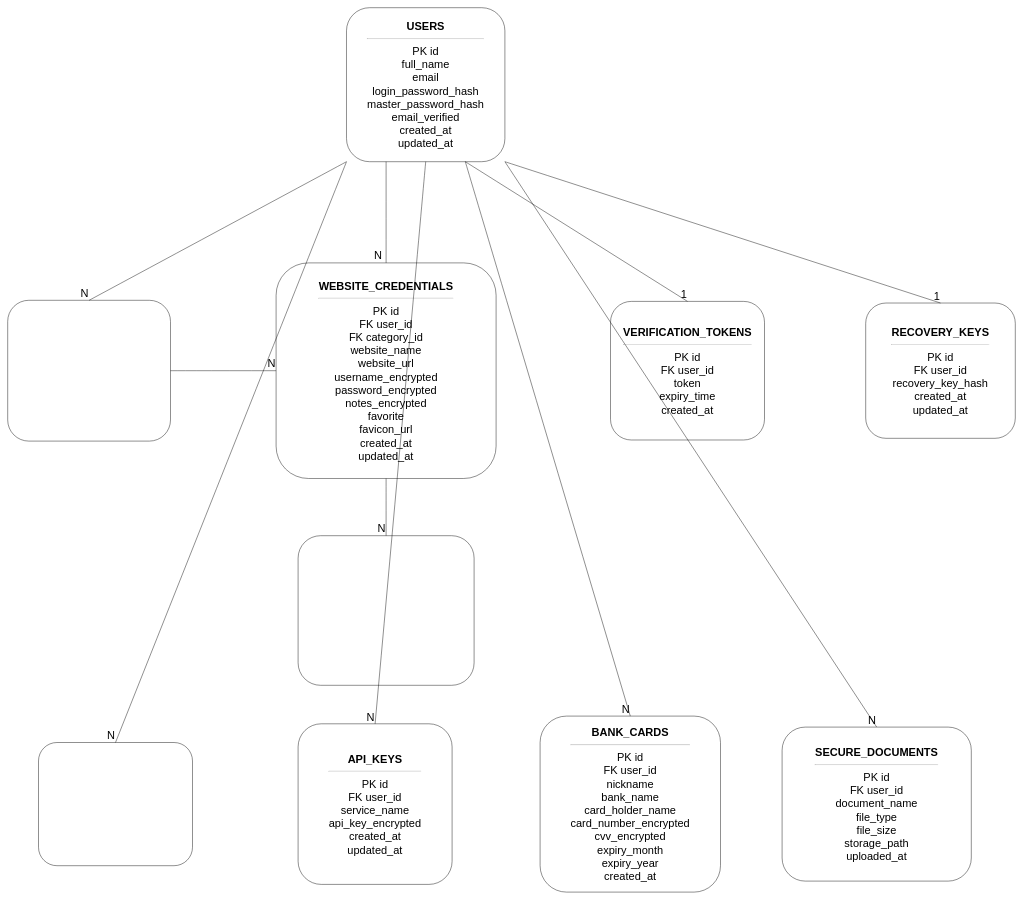
The diagram is 1023 pixels wide and 900 high, and some of its shapes have lost their labels. Here are the shapes that lost their labels. From the top down, the centre of each, then its label:
At (x=88, y=370): "CATEGORIES PK id FK user_id category_name".
At (x=386, y=610): "PASSWORD_HISTORY PK id FK credential_id old_password_encrypted changed_at".
At (x=115, y=804): "SECURE_NOTES PK id FK user_id title content_encrypted created_at updated_at".
